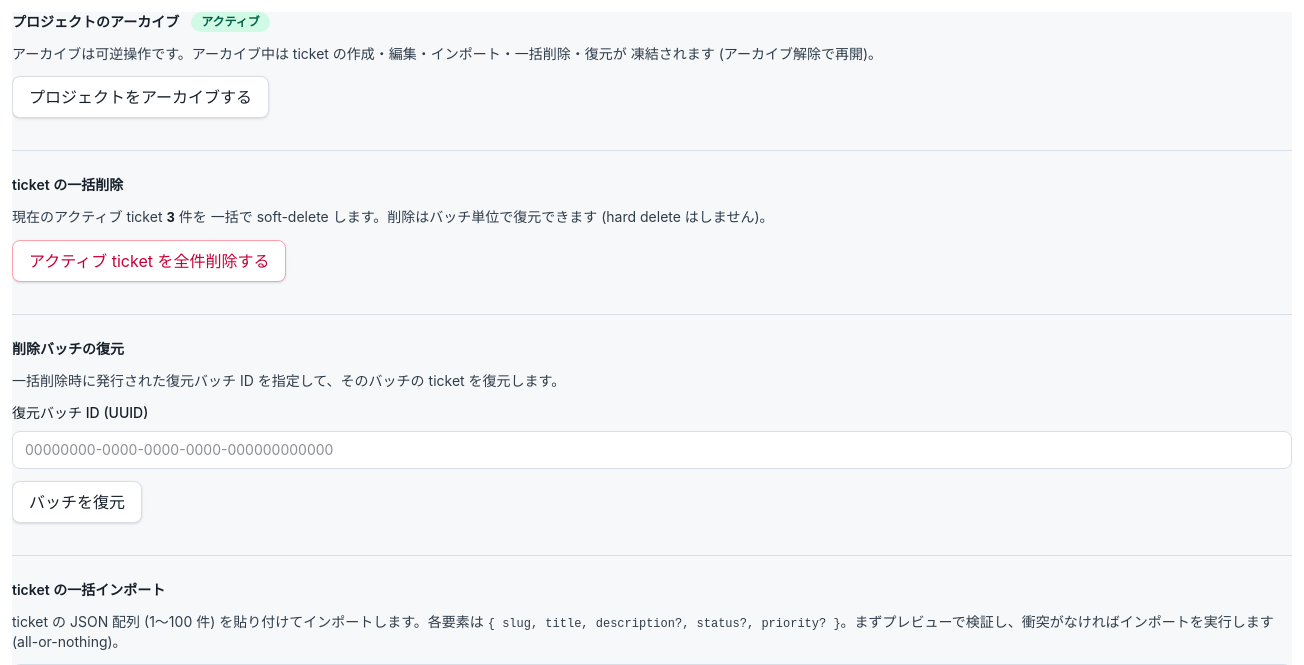
Test case: DataManagementPanel (Q-2〜Q-4 / ADR-00037) › requires a second confirmation step before bulk delete (two-stage)
Expected: the button "3 件の削除を確定" is not shown
Click the button "アクティブ ticket を全件削除する" at (149, 261), box [12, 240, 286, 282]
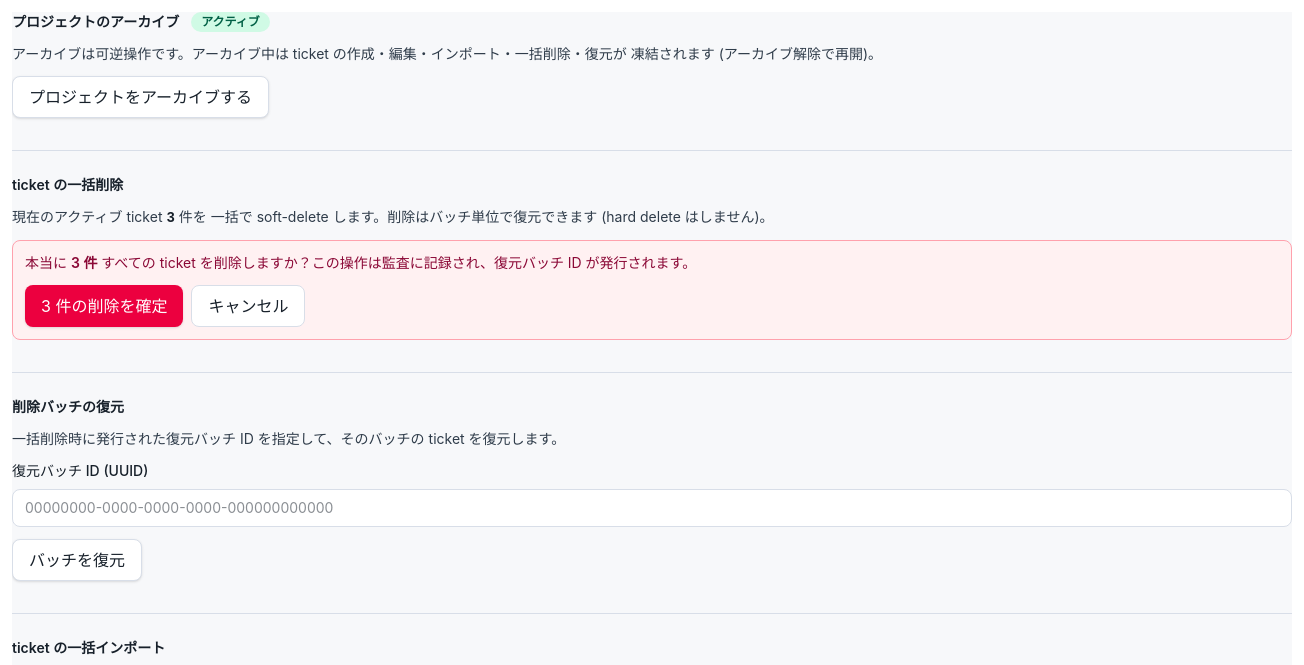
Result: the button "3 件の削除を確定" is shown at [25, 285, 183, 327]
